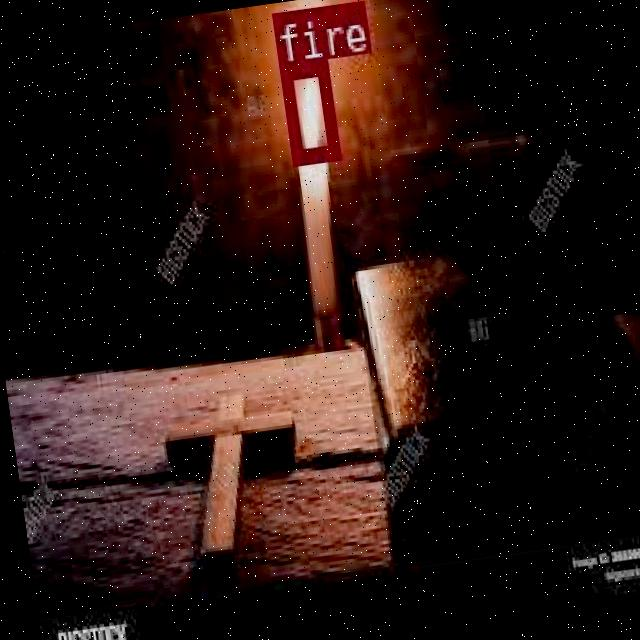fire: (276, 57, 338, 164)
